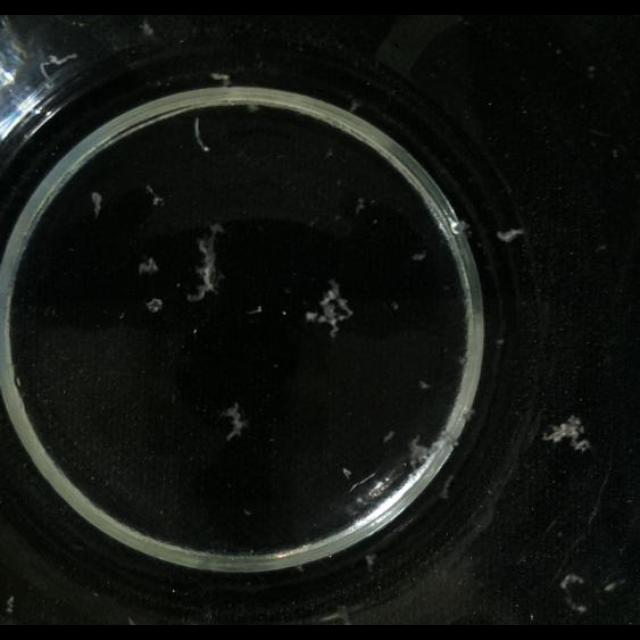Fibre: (306, 279, 356, 337), (188, 223, 222, 300), (542, 415, 592, 451), (221, 402, 251, 442), (559, 573, 589, 611), (407, 435, 437, 471), (211, 64, 235, 106), (193, 118, 211, 152), (138, 256, 158, 276), (146, 184, 164, 206), (91, 192, 103, 216), (139, 20, 155, 38), (354, 197, 368, 217), (4, 596, 16, 614), (364, 553, 376, 569)
microbeads: (496, 228, 524, 242), (145, 297, 163, 313), (342, 467, 352, 479)
